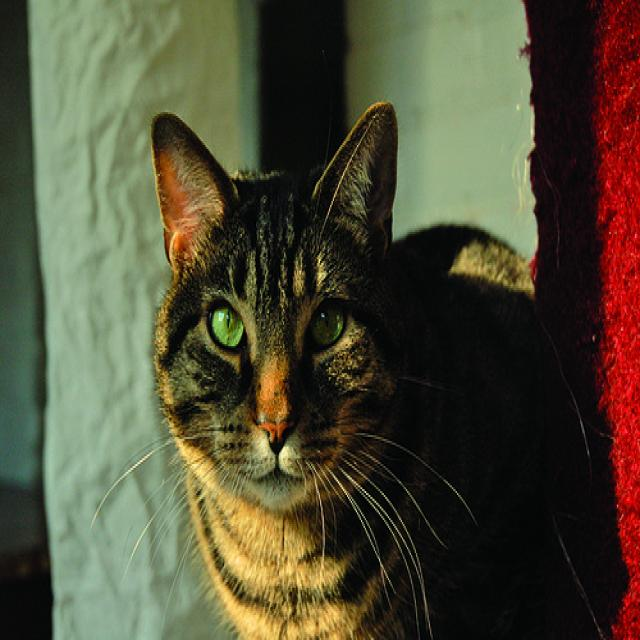left eye: (306, 294, 348, 352)
